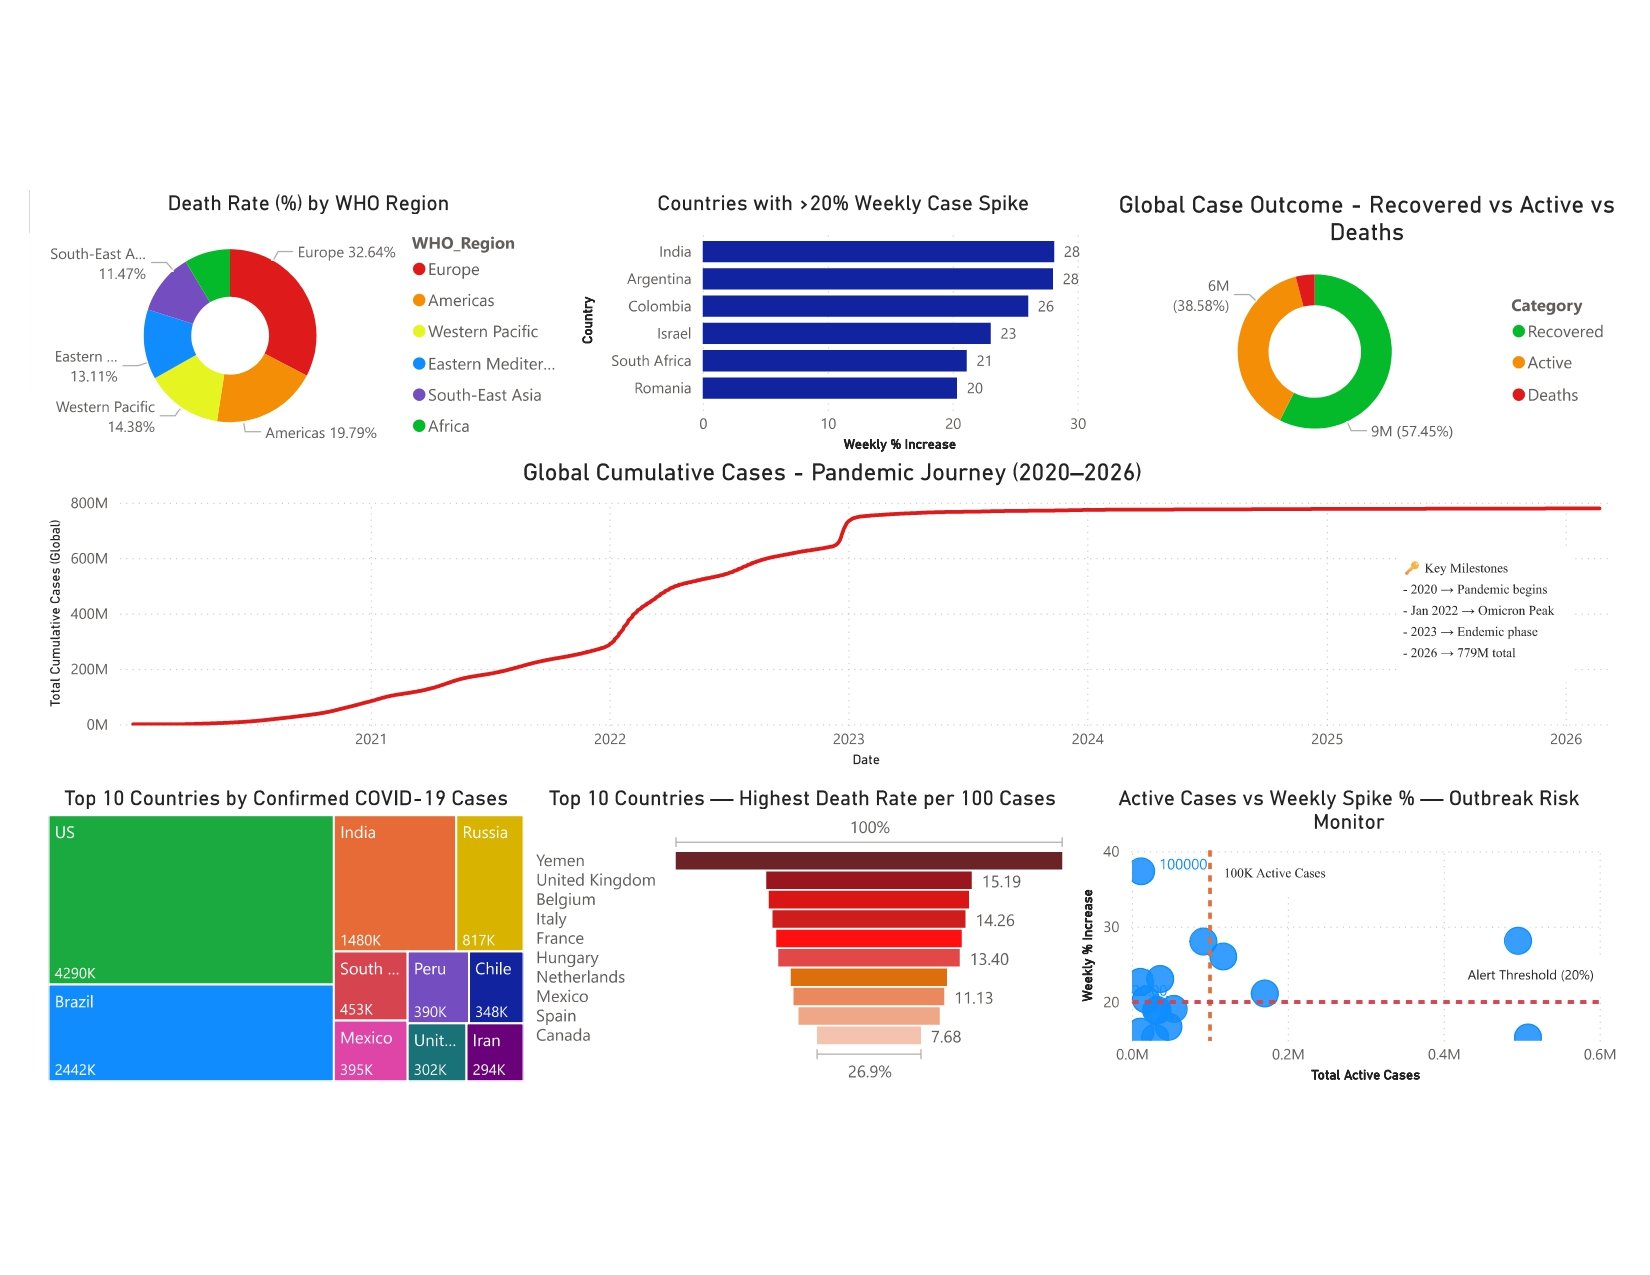

This screenshot's page, from the dashboard's own definition file:
{"tool":"powerbi","page":{"name":"Page 2","canvas":[1280,720],"ordinal":1},"visuals":[{"type":"donutChart","title":"Death Rate (%) by WHO Region","fields":{"Category":["Total deaths per WHO region.WHO_Region"],"Y":["Sum(Total deaths per WHO region.Death_pct)"]},"box":[10,0,428.3,215],"z":0},{"type":"clusteredBarChart","title":"Countries with >20% Weekly Case Spike","fields":{"Category":["Regions where new cases spiked more than 20% in a week.Country_Region"],"Y":["Sum(Regions where new cases spiked more than 20% in a week.One_week_pct_increase)"]},"box":[438.3,0,431.7,215],"z":1},{"type":"donutChart","title":"Global Case Outcome - Recovered vs Active vs Deaths","fields":{"Category":["recovery vs active vs death analysis.Category"],"Y":["Sum(recovery vs active vs death analysis.Total)"]},"box":[870,0,410,215],"z":2},{"type":"lineChart","title":"Global Cumulative Cases - Pandemic Journey (2020–2026)","fields":{"Y":["Sum(Running total of global cases over time.Running_total)"],"Y2":["Sum(Running total of global cases over time.Daily_global)"],"Category":["Running total of global cases over time.Date_reported"]},"box":[10,215,1270,253.3],"z":3},{"type":"textbox","box":[265,283.3,173.3,106.7],"z":4}]}

Visuals, with their boxes on the page's 1280x720 design canvas (x1, y1, x2, y2). These are canvas units, not pixel positions in the 1650x1275 screenshot, which may show the page scaled, cropped or inside an application window:
"Death Rate (%) by WHO Region" donutChart: region(10, 0, 438, 215)
"Countries with >20% Weekly Case Spike" clusteredBarChart: region(438, 0, 870, 215)
"Global Case Outcome - Recovered vs Active vs Deaths" donutChart: region(870, 0, 1280, 215)
"Global Cumulative Cases - Pandemic Journey (2020–2026)" lineChart: region(10, 215, 1280, 468)
textbox: region(265, 283, 438, 390)
